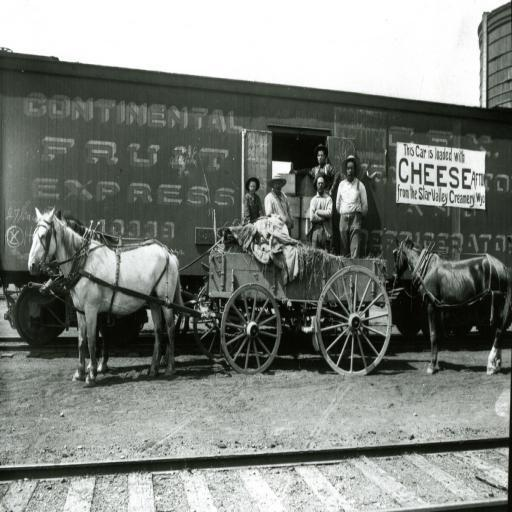horse: (26, 202, 184, 386), (55, 211, 170, 374), (393, 234, 512, 380)
